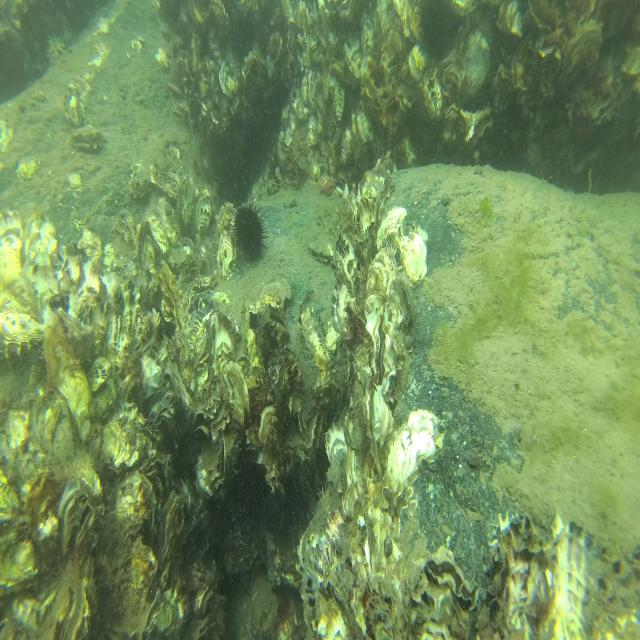echinus: (229, 201, 270, 261), (416, 3, 456, 63)
holothurian: (44, 36, 66, 62)
